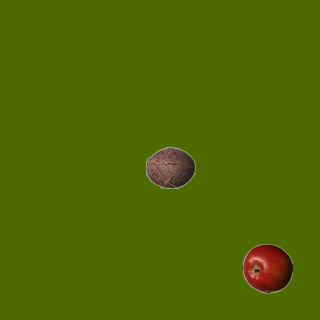Apple Braeburn: (242, 243, 292, 293)
Cocos: (145, 142, 195, 192)
